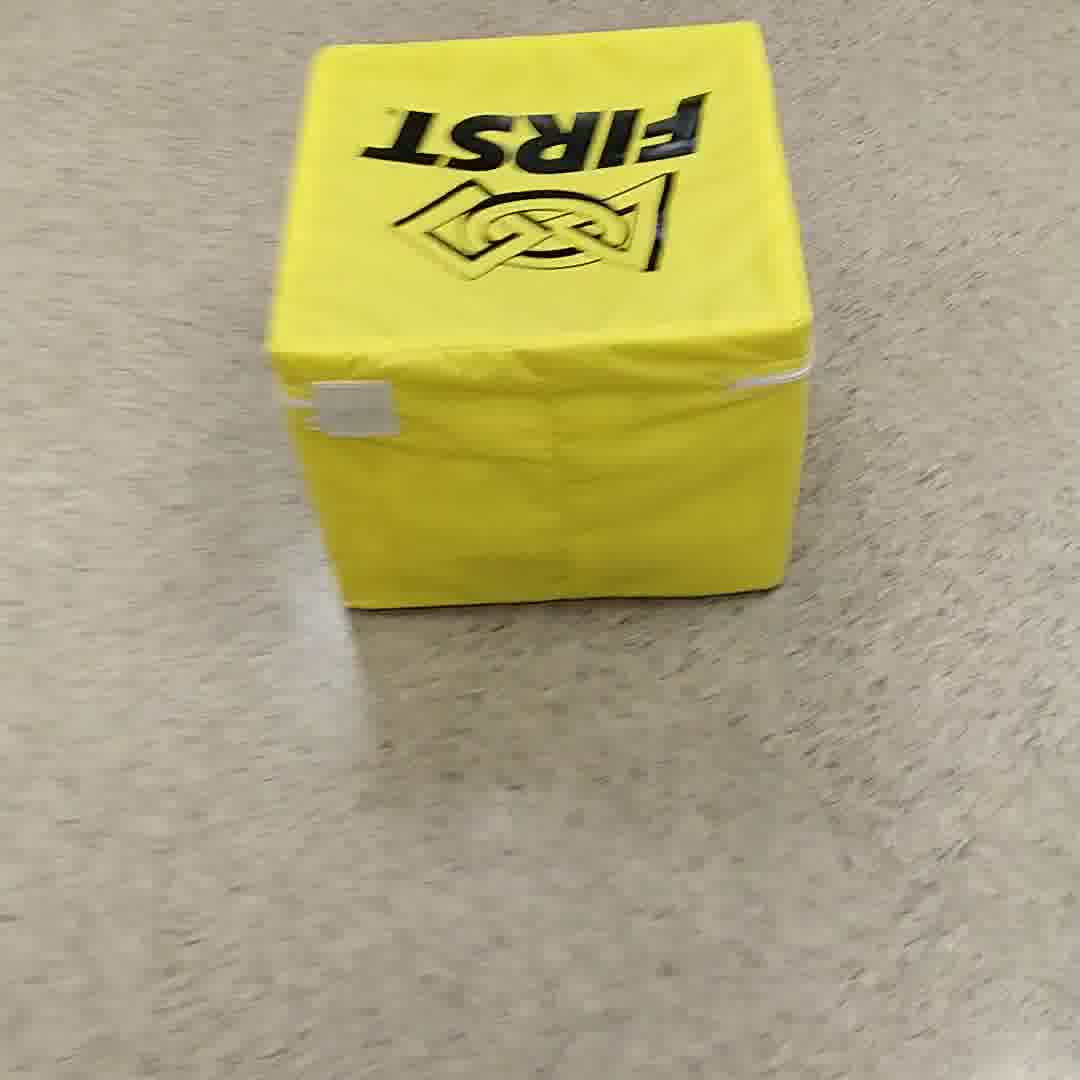box: (271, 17, 815, 609)
